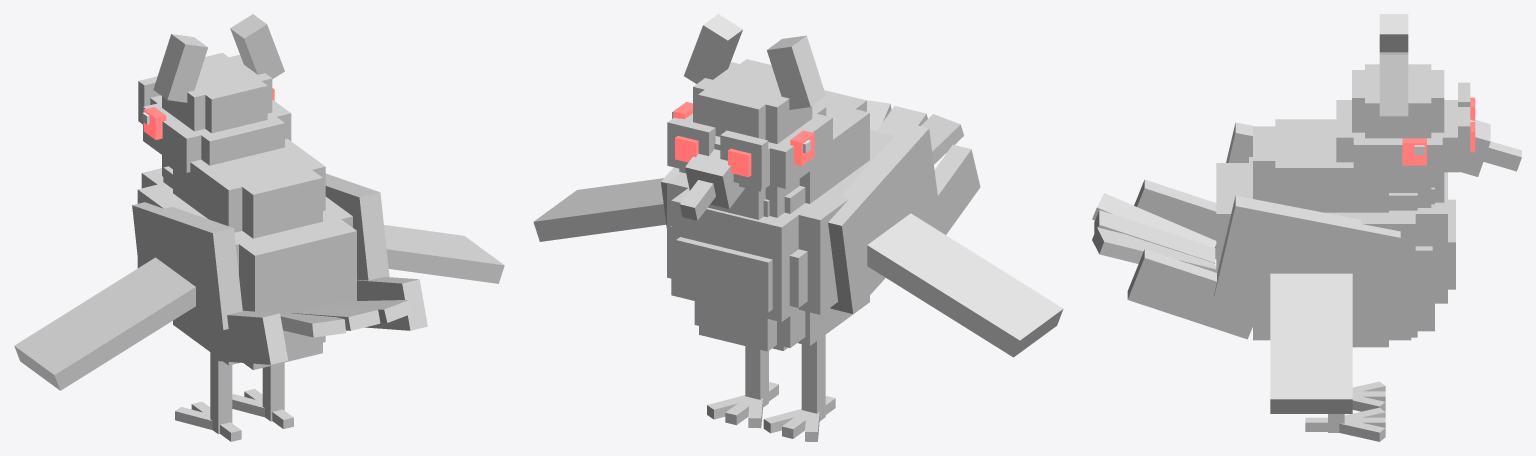
File: NightmareOwl.fbx
3 views of the same model, side by side, from view 1: azimuth 30°, elevation 25°; view 2: azimuth 150°, elevation 25°; view 3: azimuth 270°, elevation 25° (orthographic). The views are drawn at different scales.
Parts seen in each view (by area): view 1: Nightmare Owl_wingL_50, Nightmare Owl_wingL_27, Nightmare Owl_body_5, Nightmare Owl_body_7, Nightmare Owl_body_6, Nightmare Owl_wingR_49, Nightmare Owl_wingL_29, Nightmare Owl_wingR_26, Nightmare Owl_head_19, Nightmare Owl_head_18, Nightmare Owl_head_17, Nightmare Owl_head_44 (+16 smaller); view 2: Nightmare Owl_wingL_50, Nightmare Owl_wingL_27, Nightmare Owl_wingR_49, Nightmare Owl_body_5, Nightmare Owl_body_11, Nightmare Owl_head_18, Nightmare Owl_head_19, Nightmare Owl_body_6, Nightmare Owl_body_4, Nightmare Owl_head_44, Nightmare Owl_wingL_29, Nightmare Owl_body_9 (+22 smaller); view 3: Nightmare Owl_wingR_26, Nightmare Owl_wingR_49, Nightmare Owl_body_6, Nightmare Owl_wingR_28, Nightmare Owl_body_5, Nightmare Owl_head_18, Nightmare Owl_head_16, Nightmare Owl_wingL_29, Nightmare Owl_body_7, Nightmare Owl_head_17, Nightmare Owl_tail_31, Nightmare Owl_tail_32 (+21 smaller).
Part boxes in pixels (bbox=[...]): Nightmare Owl_wingL_50: bbox=[14, 257, 195, 390]; Nightmare Owl_wingL_27: bbox=[132, 202, 242, 330]; Nightmare Owl_body_5: bbox=[141, 168, 356, 299]; Nightmare Owl_body_7: bbox=[213, 148, 322, 238]; Nightmare Owl_body_6: bbox=[173, 138, 325, 232]; Nightmare Owl_wingR_49: bbox=[384, 225, 504, 283]; Nightmare Owl_wingL_29: bbox=[206, 310, 288, 364]; Nightmare Owl_wingR_26: bbox=[325, 173, 389, 280]; Nightmare Owl_head_19: bbox=[197, 52, 267, 133]; Nightmare Owl_head_18: bbox=[162, 54, 272, 131]; Nightmare Owl_head_17: bbox=[150, 95, 284, 165]; Nightmare Owl_head_44: bbox=[153, 34, 207, 102]; Nightmare Owl_wingL_50: bbox=[867, 213, 1063, 357]; Nightmare Owl_wingL_27: bbox=[828, 123, 940, 313]; Nightmare Owl_wingR_49: bbox=[533, 178, 666, 241]; Nightmare Owl_body_5: bbox=[671, 129, 894, 274]; Nightmare Owl_body_11: bbox=[676, 237, 772, 312]; Nightmare Owl_head_18: bbox=[693, 62, 812, 143]; Nightmare Owl_head_19: bbox=[698, 59, 780, 139]; Nightmare Owl_body_6: bbox=[799, 101, 869, 203]; Nightmare Owl_body_4: bbox=[667, 146, 882, 267]; Nightmare Owl_head_44: bbox=[767, 35, 825, 109]; Nightmare Owl_wingL_29: bbox=[932, 144, 980, 234]; Nightmare Owl_body_9: bbox=[699, 302, 776, 351]; Nightmare Owl_wingR_26: bbox=[1214, 195, 1400, 328]; Nightmare Owl_wingR_49: bbox=[1270, 273, 1352, 413]; Nightmare Owl_body_6: bbox=[1275, 119, 1388, 212]; Nightmare Owl_wingR_28: bbox=[1127, 249, 1260, 339]; Nightmare Owl_body_5: bbox=[1216, 163, 1447, 258]; Nightmare Owl_head_18: bbox=[1365, 64, 1431, 138]; Nightmare Owl_head_16: bbox=[1353, 132, 1442, 179]; Nightmare Owl_wingL_29: bbox=[1134, 179, 1216, 259]; Nightmare Owl_body_7: bbox=[1253, 126, 1336, 202]; Nightmare Owl_head_17: bbox=[1336, 100, 1459, 172]; Nightmare Owl_tail_31: bbox=[1094, 210, 1215, 263]; Nightmare Owl_tail_32: bbox=[1092, 227, 1216, 272].
Size of the model in its own units: 258 by 204 by 209.
